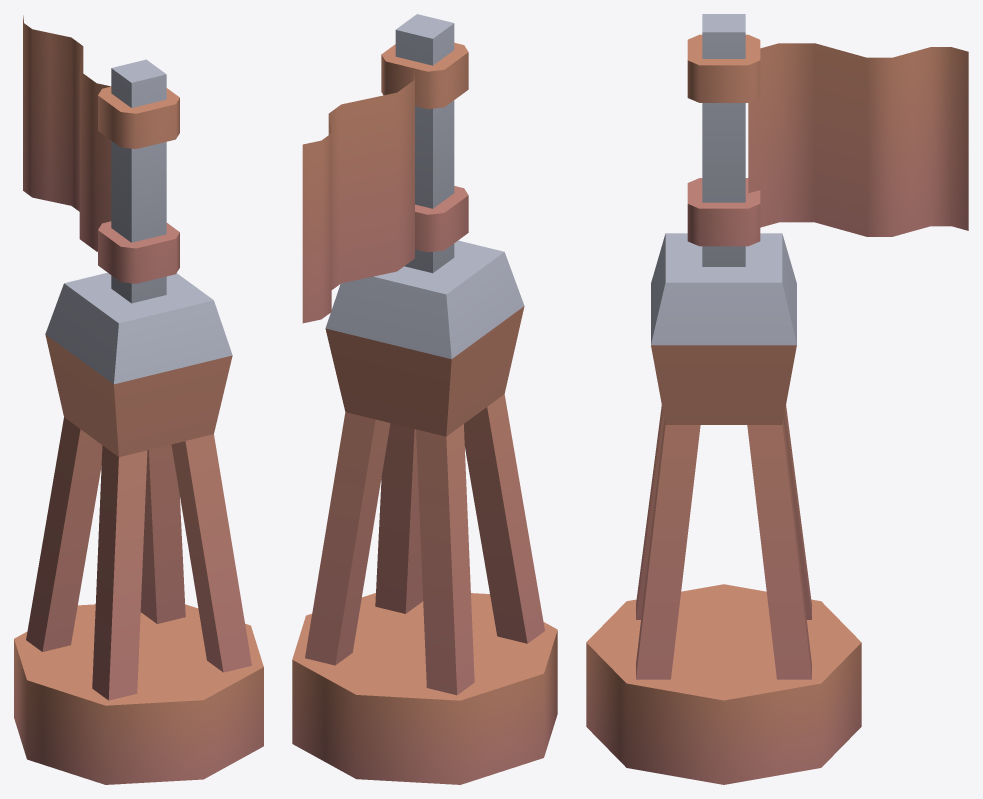
File: buoy.glb
3 views of the same model, side by side, from view 1: azimuth 30°, elevation 25°; view 2: azimuth 150°, elevation 25°; view 3: azimuth 270°, elevation 25° (orthographic). The views are drawn at different scales.
Visible parts, largest first — view 1: buoy; view 2: buoy; view 3: buoy.
Part boxes in pixels (box(x1,y1,x2,y2)): buoy: box(14, 15, 263, 784); buoy: box(292, 14, 557, 784); buoy: box(586, 14, 968, 784).
Size of the model in its own units: 0.3416 by 0.9632 by 0.4744.
